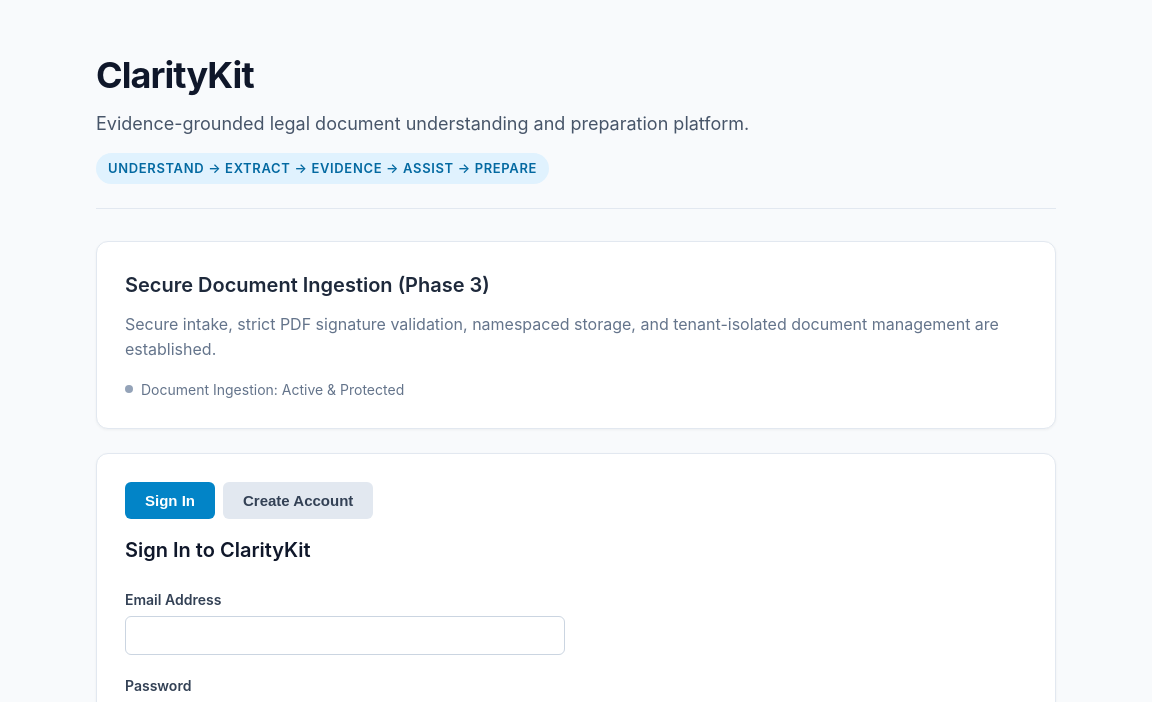
Test: ClarityKit App Shell Smoke Test › toggles between sign in and create account forms
Click the button "Create Account" at x=298, y=500, box [223,482,373,519]
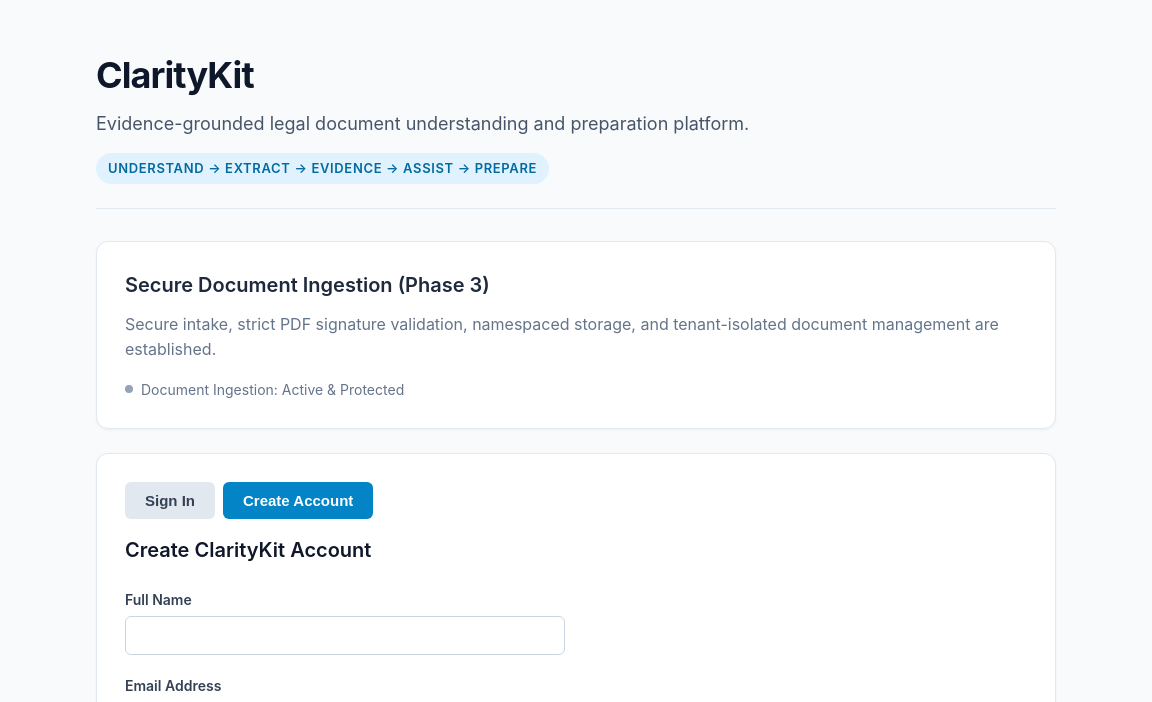
Check: the field labelled "Full Name" is shown, box [125,616,565,655]
Check: the heading "Create ClarityKit Account" is shown, box [125,538,371,562]
// Click Sign In button
Click the button "Sign In" at x=170, y=500, box [125,482,215,519]
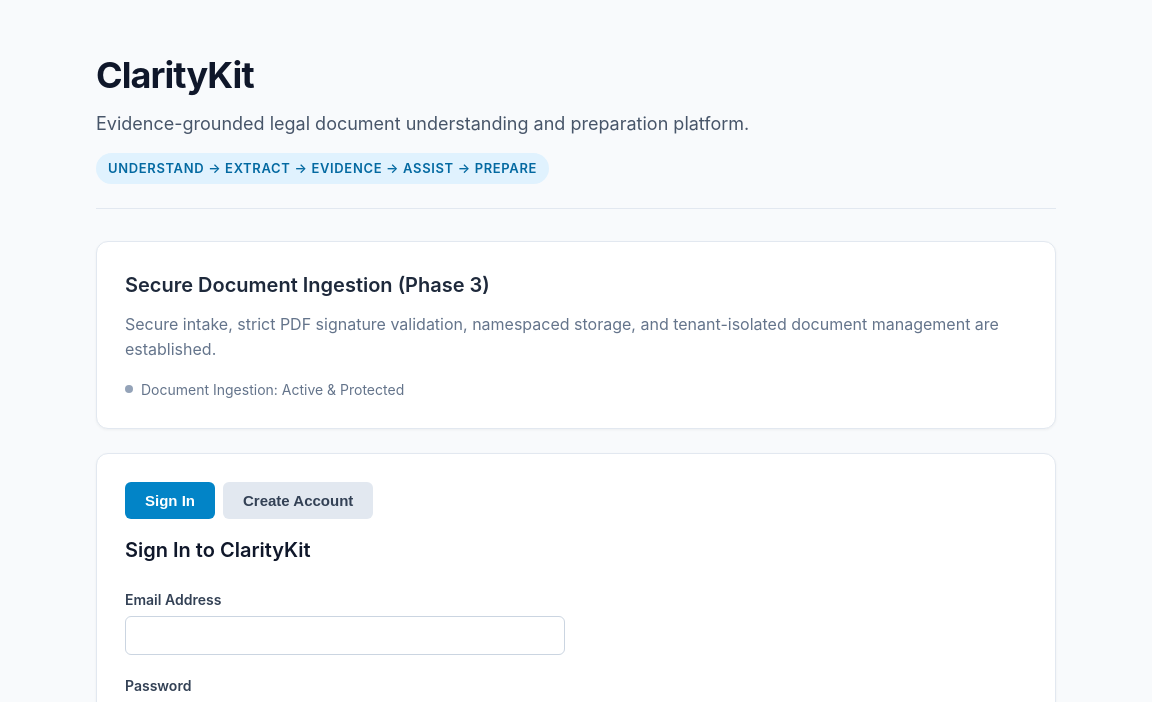
Check: the heading "Sign In to ClarityKit" is shown, box [125,538,310,562]
